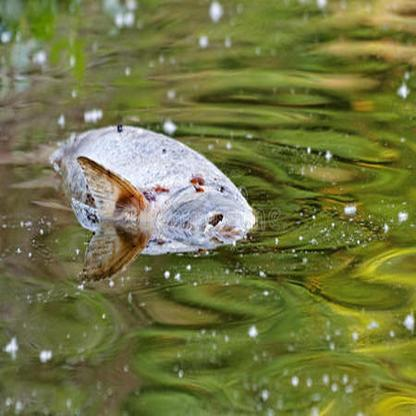deceased fish: (50, 120, 262, 255)
